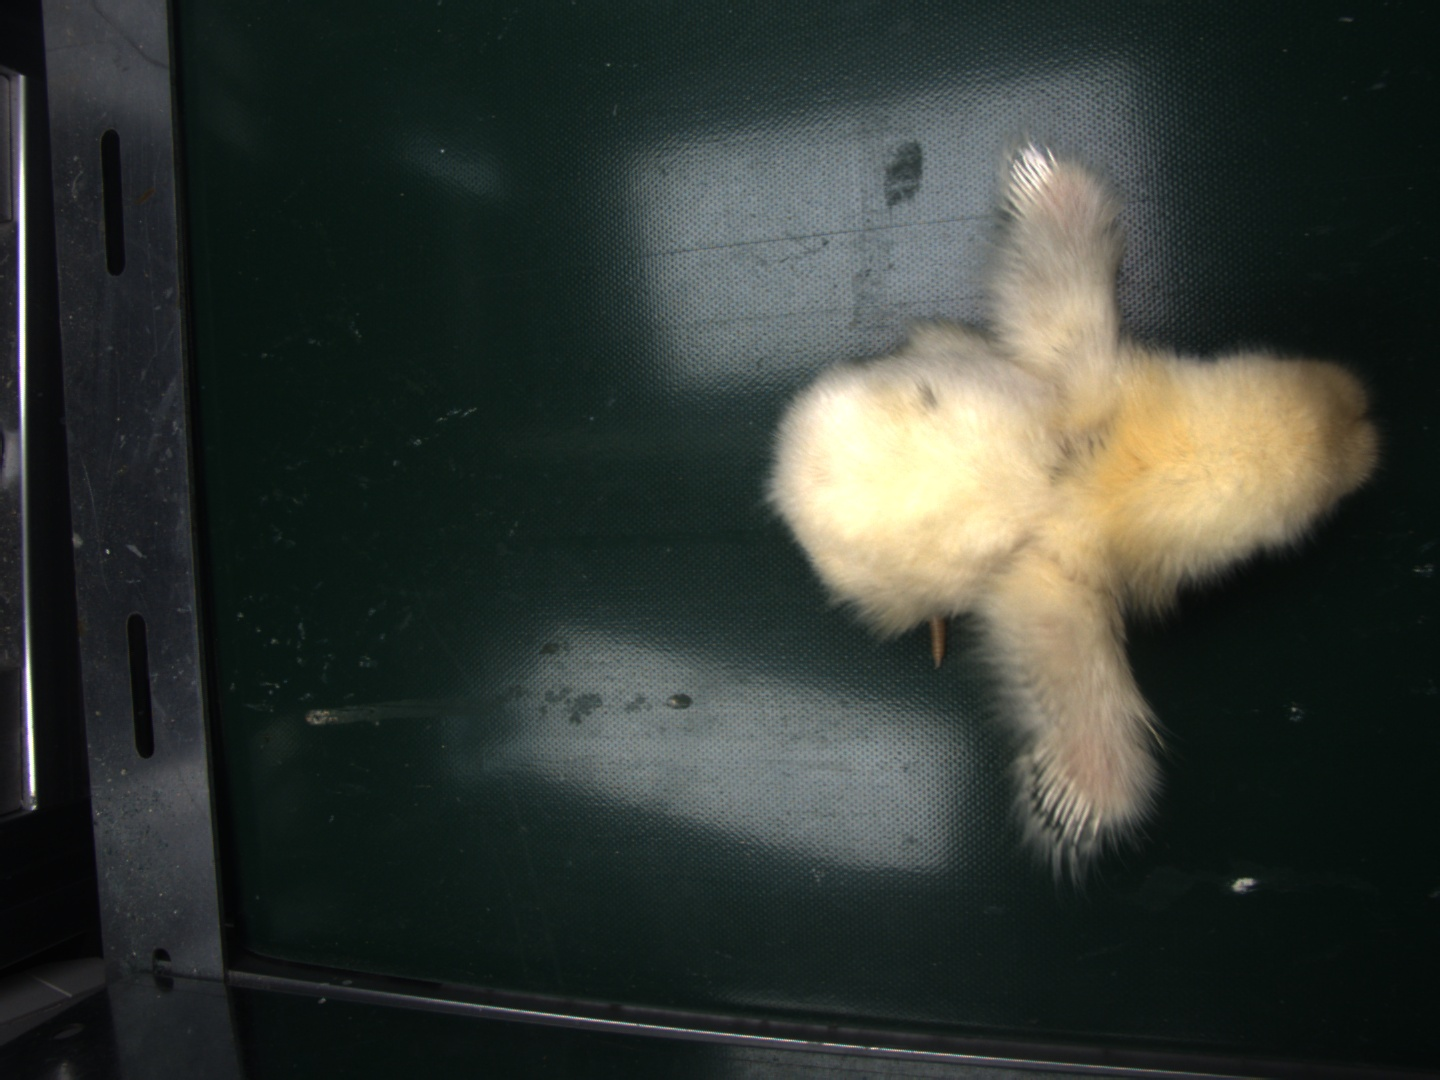male: (1030, 741, 1100, 847)
